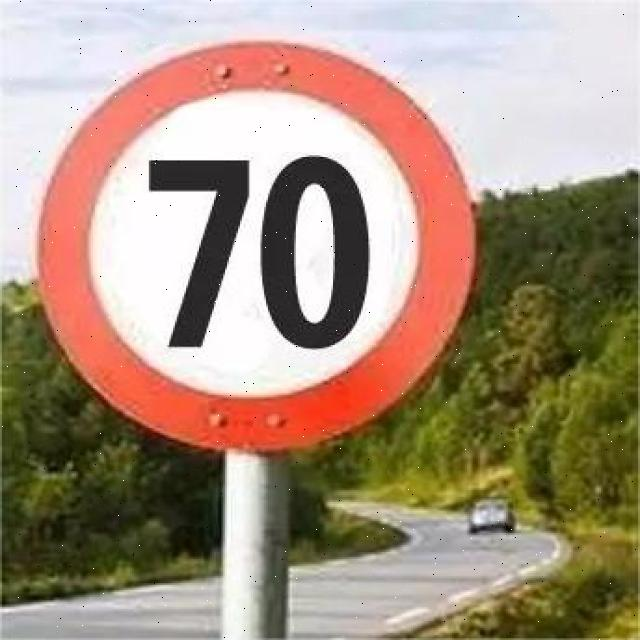speed limit 70: (37, 41, 480, 453)
